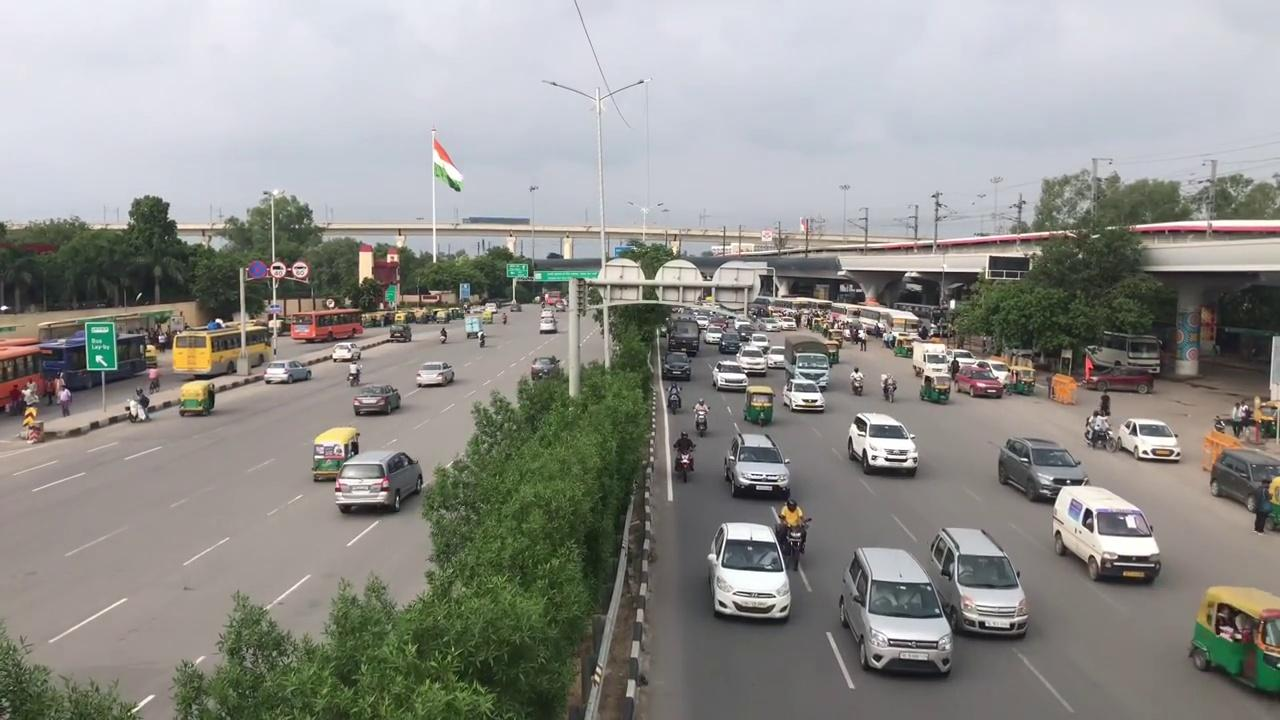Auto: (1192, 583, 1280, 694), (310, 423, 360, 482), (177, 378, 215, 418), (744, 384, 775, 427), (920, 372, 953, 405)
Bike: (775, 490, 810, 572), (1083, 407, 1117, 451), (672, 428, 696, 485), (694, 393, 710, 438), (848, 364, 866, 397), (882, 371, 898, 404)
Car: (839, 546, 953, 676), (932, 524, 1029, 638), (707, 518, 792, 622), (998, 436, 1087, 504), (334, 446, 424, 513), (849, 410, 919, 476), (726, 430, 790, 498), (1116, 415, 1184, 463), (353, 382, 402, 418), (782, 379, 827, 414)
